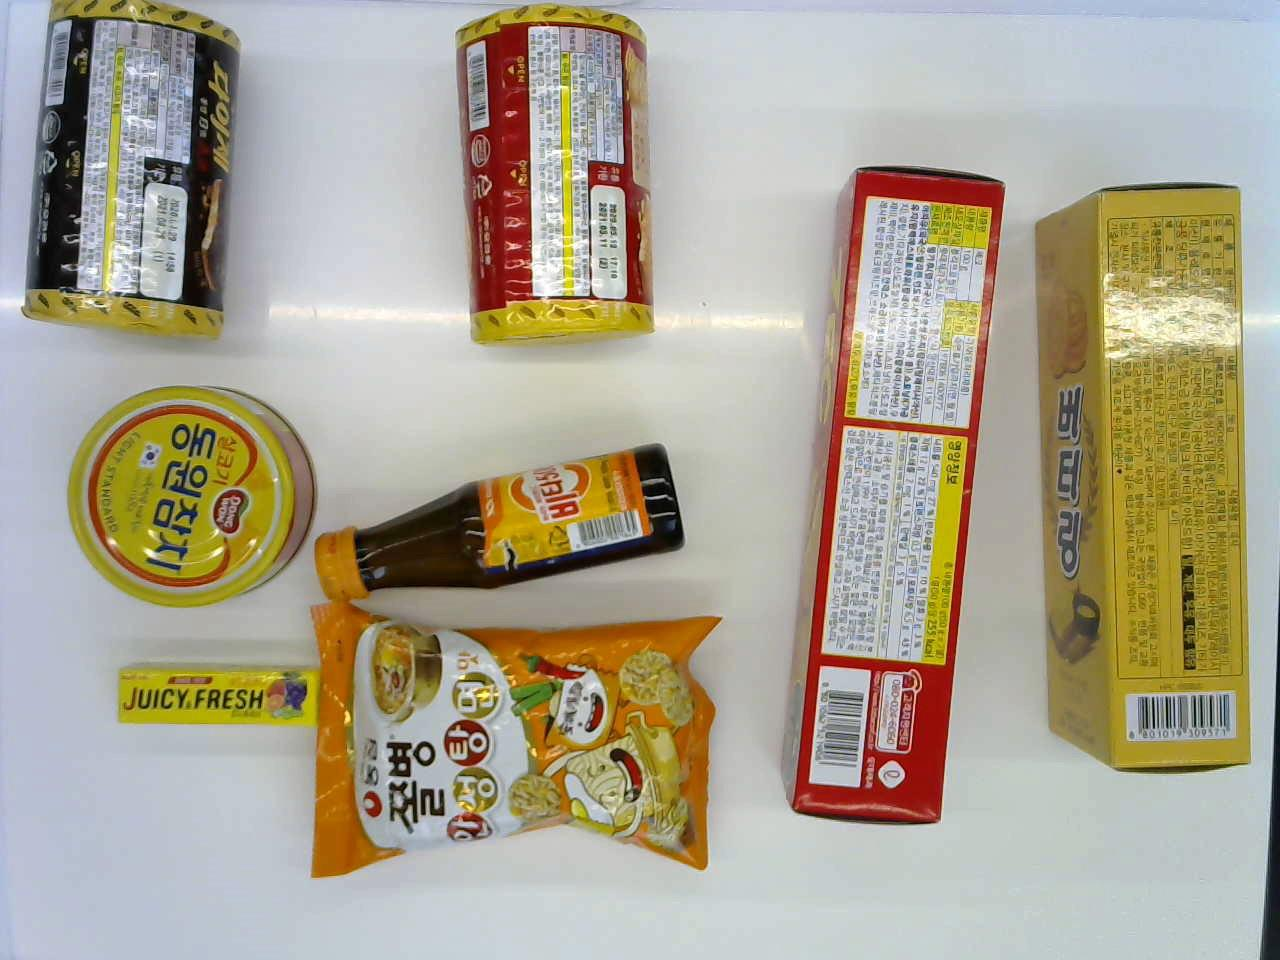buttering: (1022, 174, 1254, 786)
diget_choco: (20, 0, 245, 340)
diget_ori: (451, 4, 656, 349)
jjolbyung_noodle: (313, 596, 724, 881)
juicyfresh: (113, 652, 315, 747)
tuna: (59, 371, 312, 616)
vita500: (316, 432, 686, 603)
zec: (787, 148, 1006, 841)
